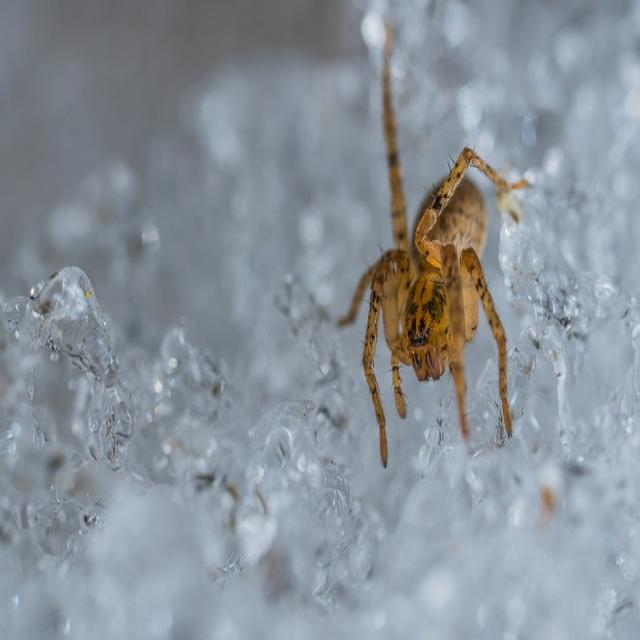spyder: (339, 24, 528, 465)
